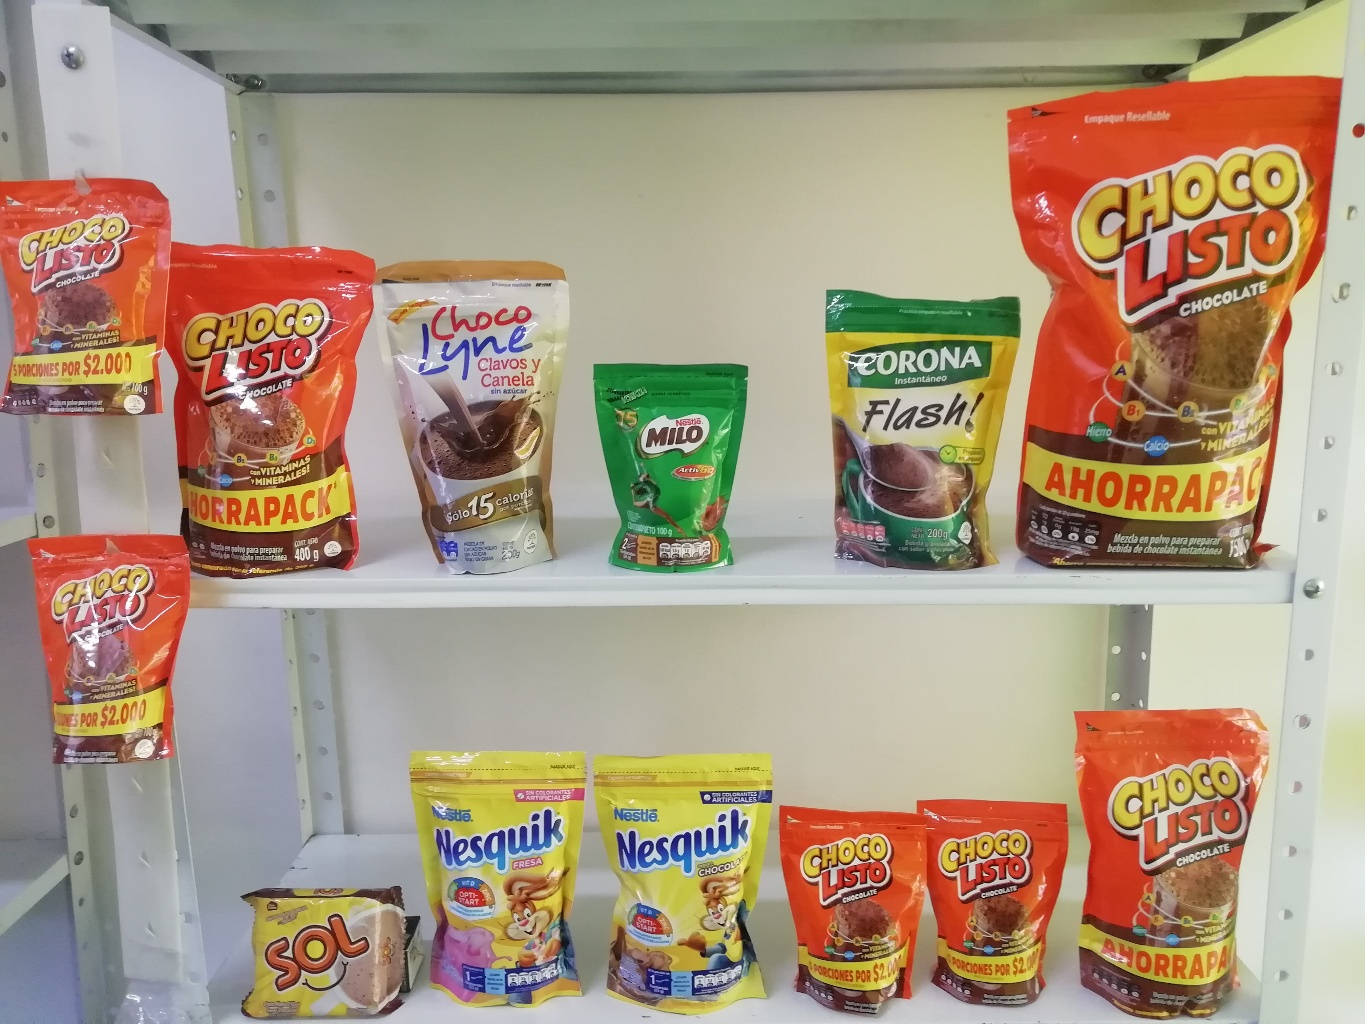COL0170103DYP1,500: (999, 83, 1322, 573)
COL0170103DYP10000: (1, 176, 170, 414)
COL0170103DYP36000: (1069, 700, 1272, 1022)
COL0170103DYP40000: (167, 238, 370, 578)
COL0170203DYP10000: (589, 359, 745, 572)
COL0170303DYP20000: (593, 754, 781, 1015)
COL0170305DYP20000: (406, 744, 594, 1012)
